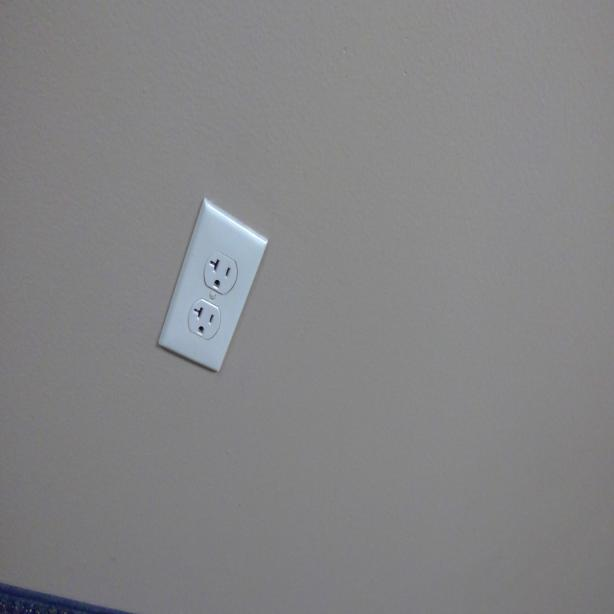typeb: (205, 250, 236, 292), (190, 301, 216, 342)
